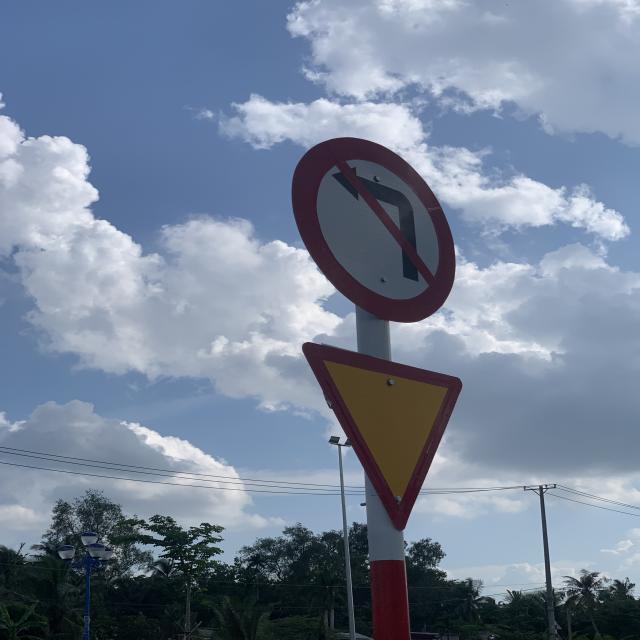Cam_Re_Trai: (297, 138, 455, 318)
Gioi_Han_Toc_Do_25: (299, 342, 465, 538)
